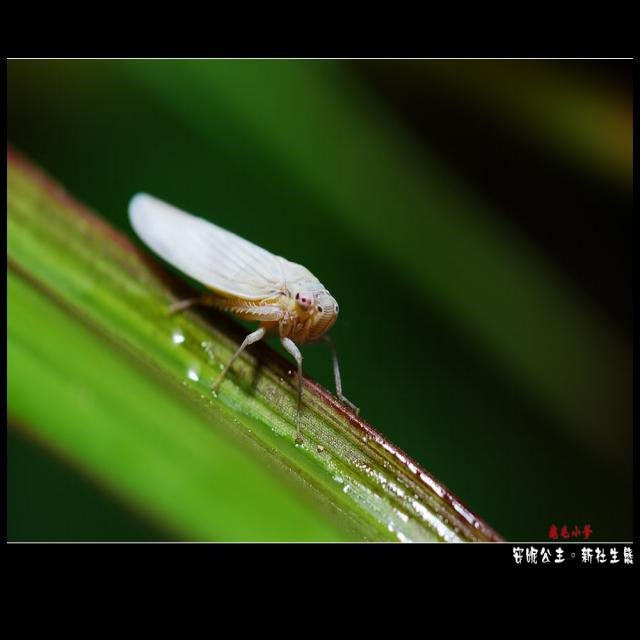Yechan: (122, 176, 356, 402)
